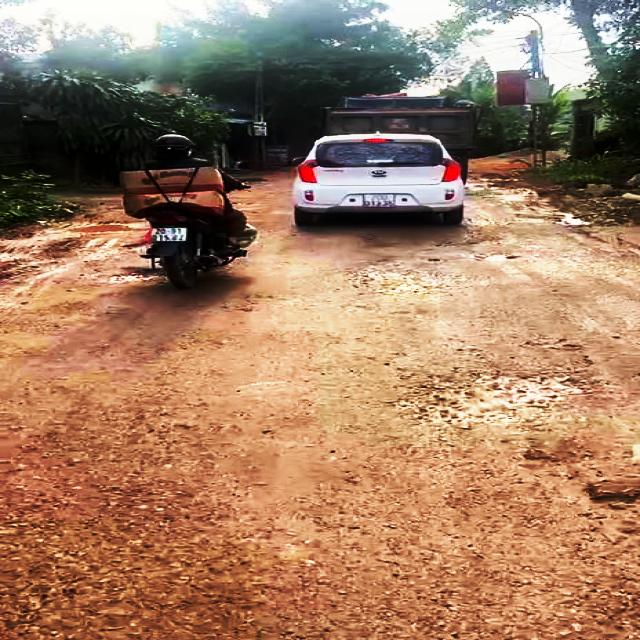pothole: (400, 372, 589, 426)
